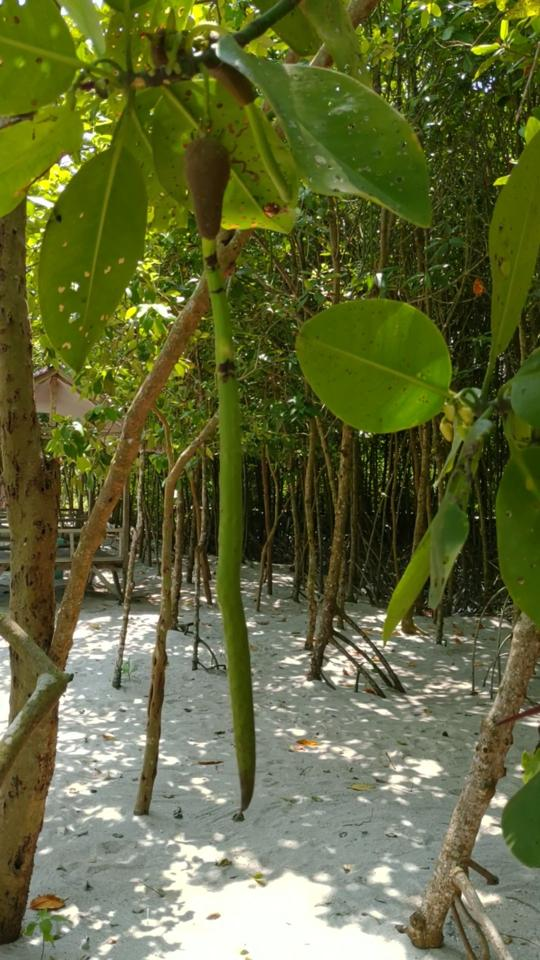mentah: (170, 107, 285, 826)
